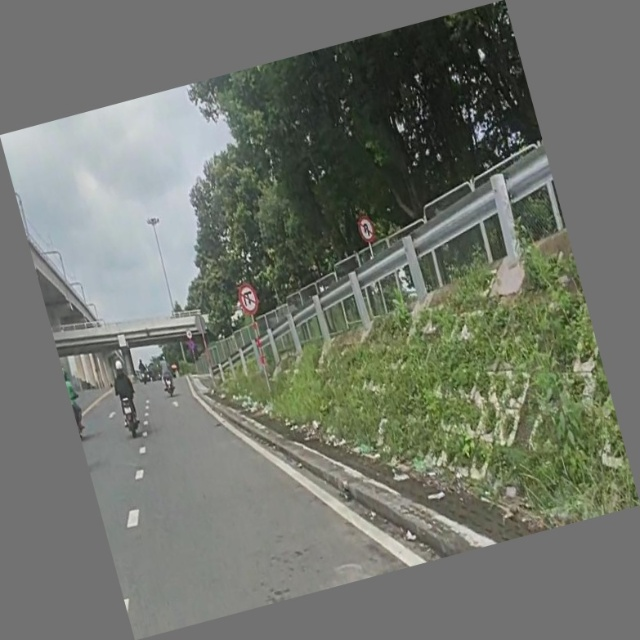P.124a*: (355, 213, 378, 243)
P.124d: (236, 281, 263, 317)
P.127*40: (185, 328, 193, 339)
P.130: (188, 340, 197, 351)
